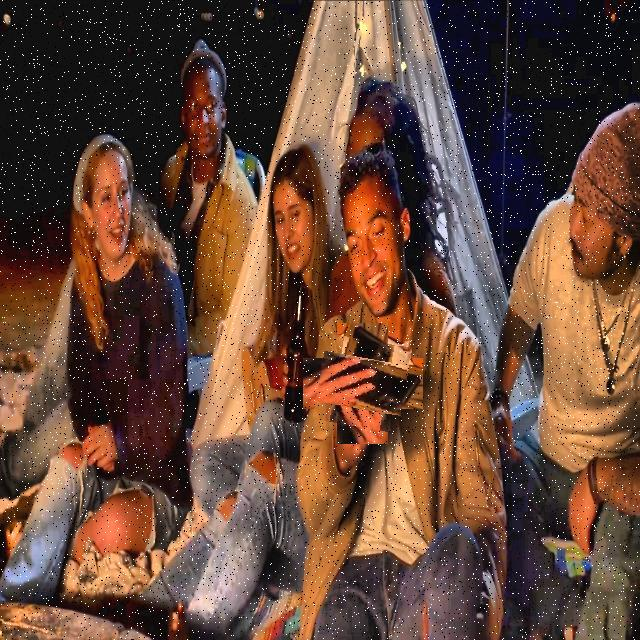Phone: (316, 337, 409, 430)
